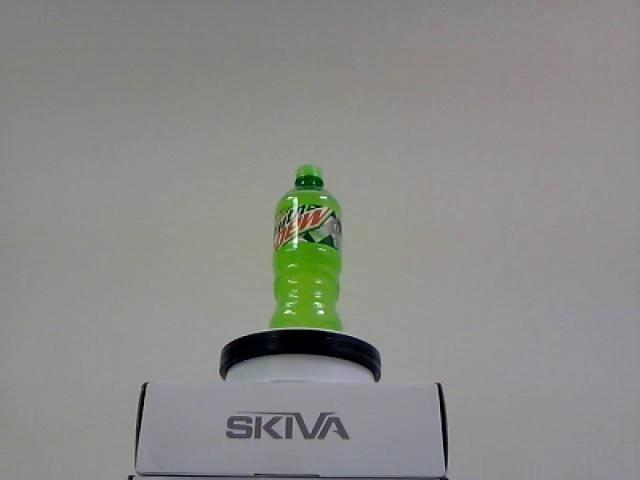bottle-plastic: (267, 160, 349, 331)
